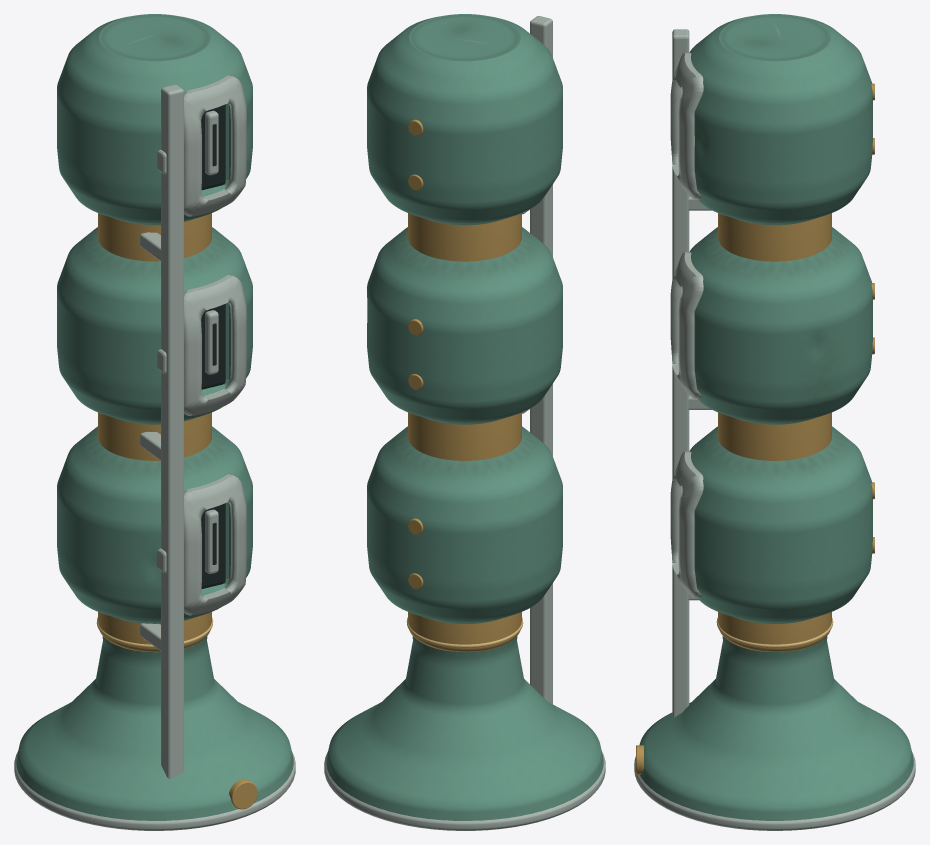
3 renders of one model, left to right at view 1: azimuth 30°, elevation 25°; view 2: azimuth 150°, elevation 25°; view 3: azimuth 270°, elevation 25°, orthographic.
Parts seen in each view (by area): view 1: RI03 flared mounting pedestal, RI03 renewed process vessel 2, RI03 renewed process vessel 1, RI03 renewed process vessel 0, RI03 continuous flat equipment spine, RI03 broad pale service frame 0, RI03 broad pale service frame 2, RI03 broad pale service frame 1, RI03 ground mounting rim, RI03 solid brass interstage neck 1, RI03 solid brass interstage neck 2, RI03 solid brass interstage neck 0 (+7 smaller); view 2: RI03 renewed process vessel 2, RI03 flared mounting pedestal, RI03 renewed process vessel 1, RI03 renewed process vessel 0, RI03 continuous flat equipment spine, RI03 solid brass interstage neck 1, RI03 solid brass interstage neck 2, RI03 ground mounting rim, RI03 solid brass interstage neck 0; view 3: RI03 flared mounting pedestal, RI03 renewed process vessel 2, RI03 renewed process vessel 1, RI03 renewed process vessel 0, RI03 continuous flat equipment spine, RI03 solid brass interstage neck 1, RI03 solid brass interstage neck 2, RI03 broad pale service frame 2, RI03 broad pale service frame 1, RI03 broad pale service frame 0, RI03 ground mounting rim, RI03 solid brass interstage neck 0.
Boxes of the visible parts, box(x1,y1,x2,y2) form: RI03 flared mounting pedestal: box(16, 636, 293, 820); RI03 renewed process vessel 2: box(57, 14, 252, 225); RI03 renewed process vessel 1: box(57, 227, 252, 424); RI03 renewed process vessel 0: box(57, 426, 252, 623); RI03 continuous flat equipment spine: box(161, 84, 183, 778); RI03 broad pale service frame 0: box(184, 474, 246, 615); RI03 broad pale service frame 2: box(184, 75, 246, 216); RI03 broad pale service frame 1: box(184, 274, 246, 416); RI03 ground mounting rim: box(14, 752, 295, 830); RI03 solid brass interstage neck 1: box(98, 412, 211, 460); RI03 solid brass interstage neck 2: box(98, 213, 211, 261); RI03 solid brass interstage neck 0: box(98, 612, 211, 652); RI03 renewed process vessel 2: box(367, 14, 562, 225); RI03 flared mounting pedestal: box(326, 636, 603, 820); RI03 renewed process vessel 1: box(367, 227, 562, 424); RI03 renewed process vessel 0: box(367, 426, 562, 623); RI03 continuous flat equipment spine: box(530, 16, 552, 704); RI03 solid brass interstage neck 1: box(408, 412, 521, 460); RI03 solid brass interstage neck 2: box(408, 213, 521, 261); RI03 ground mounting rim: box(324, 752, 605, 830); RI03 solid brass interstage neck 0: box(408, 612, 521, 652); RI03 flared mounting pedestal: box(639, 636, 913, 820); RI03 renewed process vessel 2: box(689, 14, 872, 225); RI03 renewed process vessel 1: box(689, 227, 872, 424); RI03 renewed process vessel 0: box(689, 426, 872, 623); RI03 continuous flat equipment spine: box(672, 29, 689, 718); RI03 solid brass interstage neck 1: box(718, 412, 831, 460); RI03 solid brass interstage neck 2: box(718, 213, 831, 261); RI03 broad pale service frame 2: box(670, 52, 703, 199); RI03 broad pale service frame 1: box(670, 252, 703, 398); RI03 broad pale service frame 0: box(670, 451, 703, 597); RI03 ground mounting rim: box(634, 752, 915, 830); RI03 solid brass interstage neck 0: box(718, 612, 831, 651).
Bounding box in the file's own units: 1.41 × 4.1 × 1.41.
7 materials, 2 textured.
